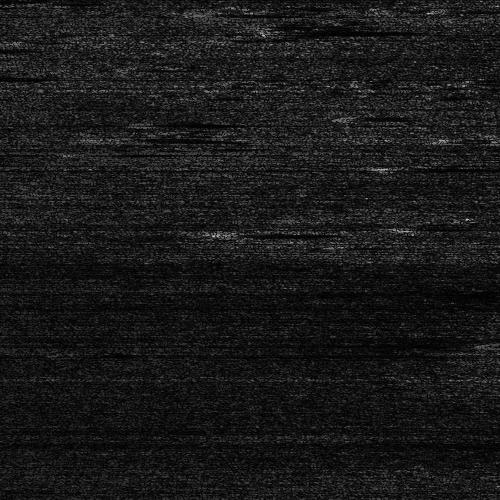rock: (153, 6, 258, 17), (266, 23, 329, 38), (72, 133, 165, 140), (455, 339, 500, 346), (147, 119, 188, 124), (60, 150, 101, 155), (217, 230, 258, 235)
shadow: (298, 23, 411, 38), (206, 6, 287, 17), (119, 133, 219, 140), (238, 230, 343, 235), (168, 119, 245, 124), (81, 150, 129, 155), (482, 339, 500, 346)
